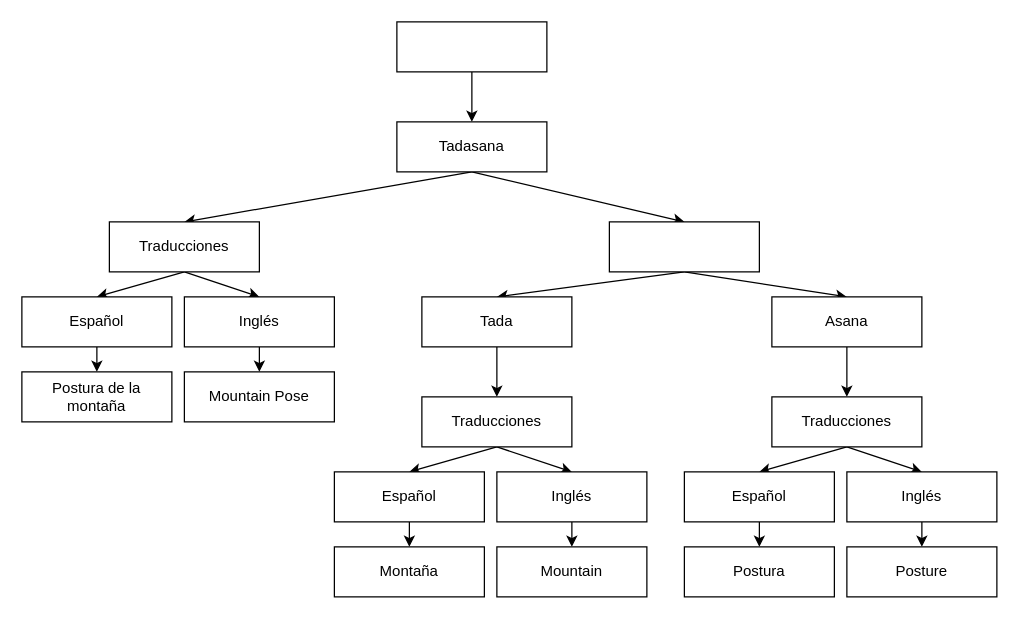
The diagram is 1019 pixels wide and 619 high, and some of its shapes have lost their labels. The shapes that lost their labels are listed below. From the top down, each one's centre as x and y in pixels, then its label:
At (x=471, y=46): "Posturas de Yoga".
At (x=683, y=246): "Morfemas".
